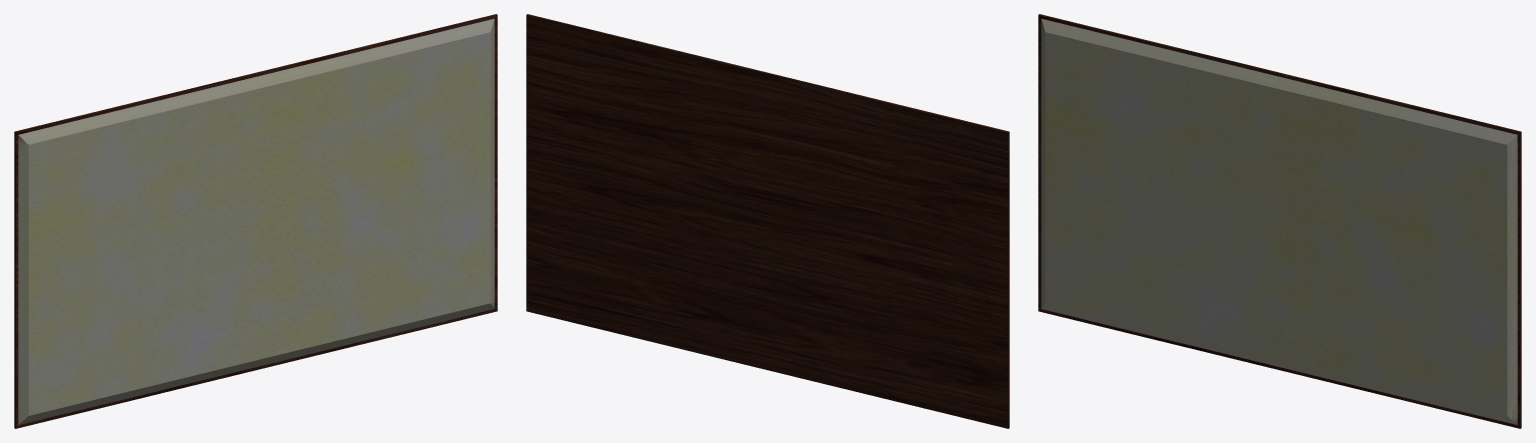
File: mirror.glb
The picture shows the model from 3 angles, left to right: view 1: azimuth 30°, elevation 25°; view 2: azimuth 150°, elevation 25°; view 3: azimuth 330°, elevation 25°; orthographic projection.
Parts seen in each view (by area): view 1: pCube23; view 2: pCube23; view 3: pCube23.
Part boxes in pixels (left/top/right/bottom): pCube23: left=14, top=14, right=497, bottom=428; pCube23: left=526, top=14, right=1009, bottom=428; pCube23: left=1038, top=14, right=1521, bottom=428.
Bounding box in the file's own units: 167 × 98.26 × 2.5.
Materials: 1 (1 with a texture image).
